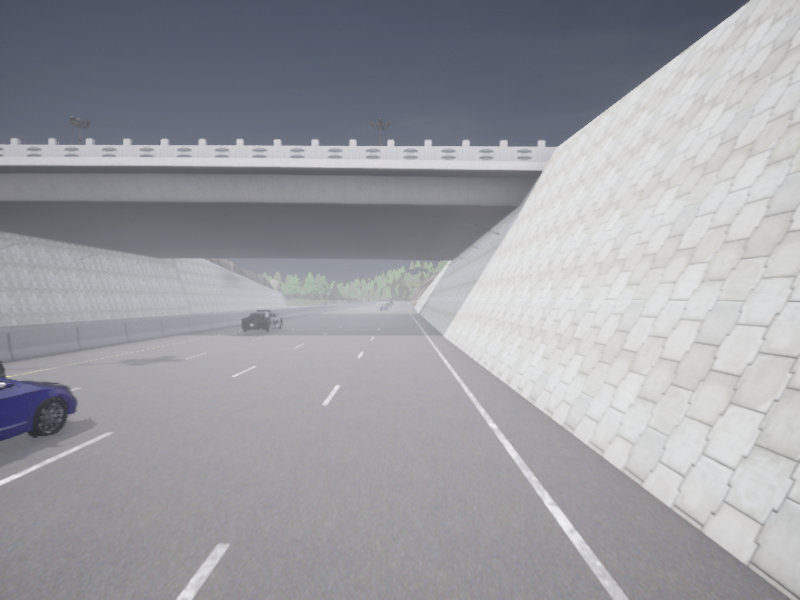vehicle: (0, 377, 76, 441), (241, 310, 282, 332), (0, 360, 6, 377), (380, 304, 388, 310), (387, 303, 391, 307), (389, 301, 393, 305)
